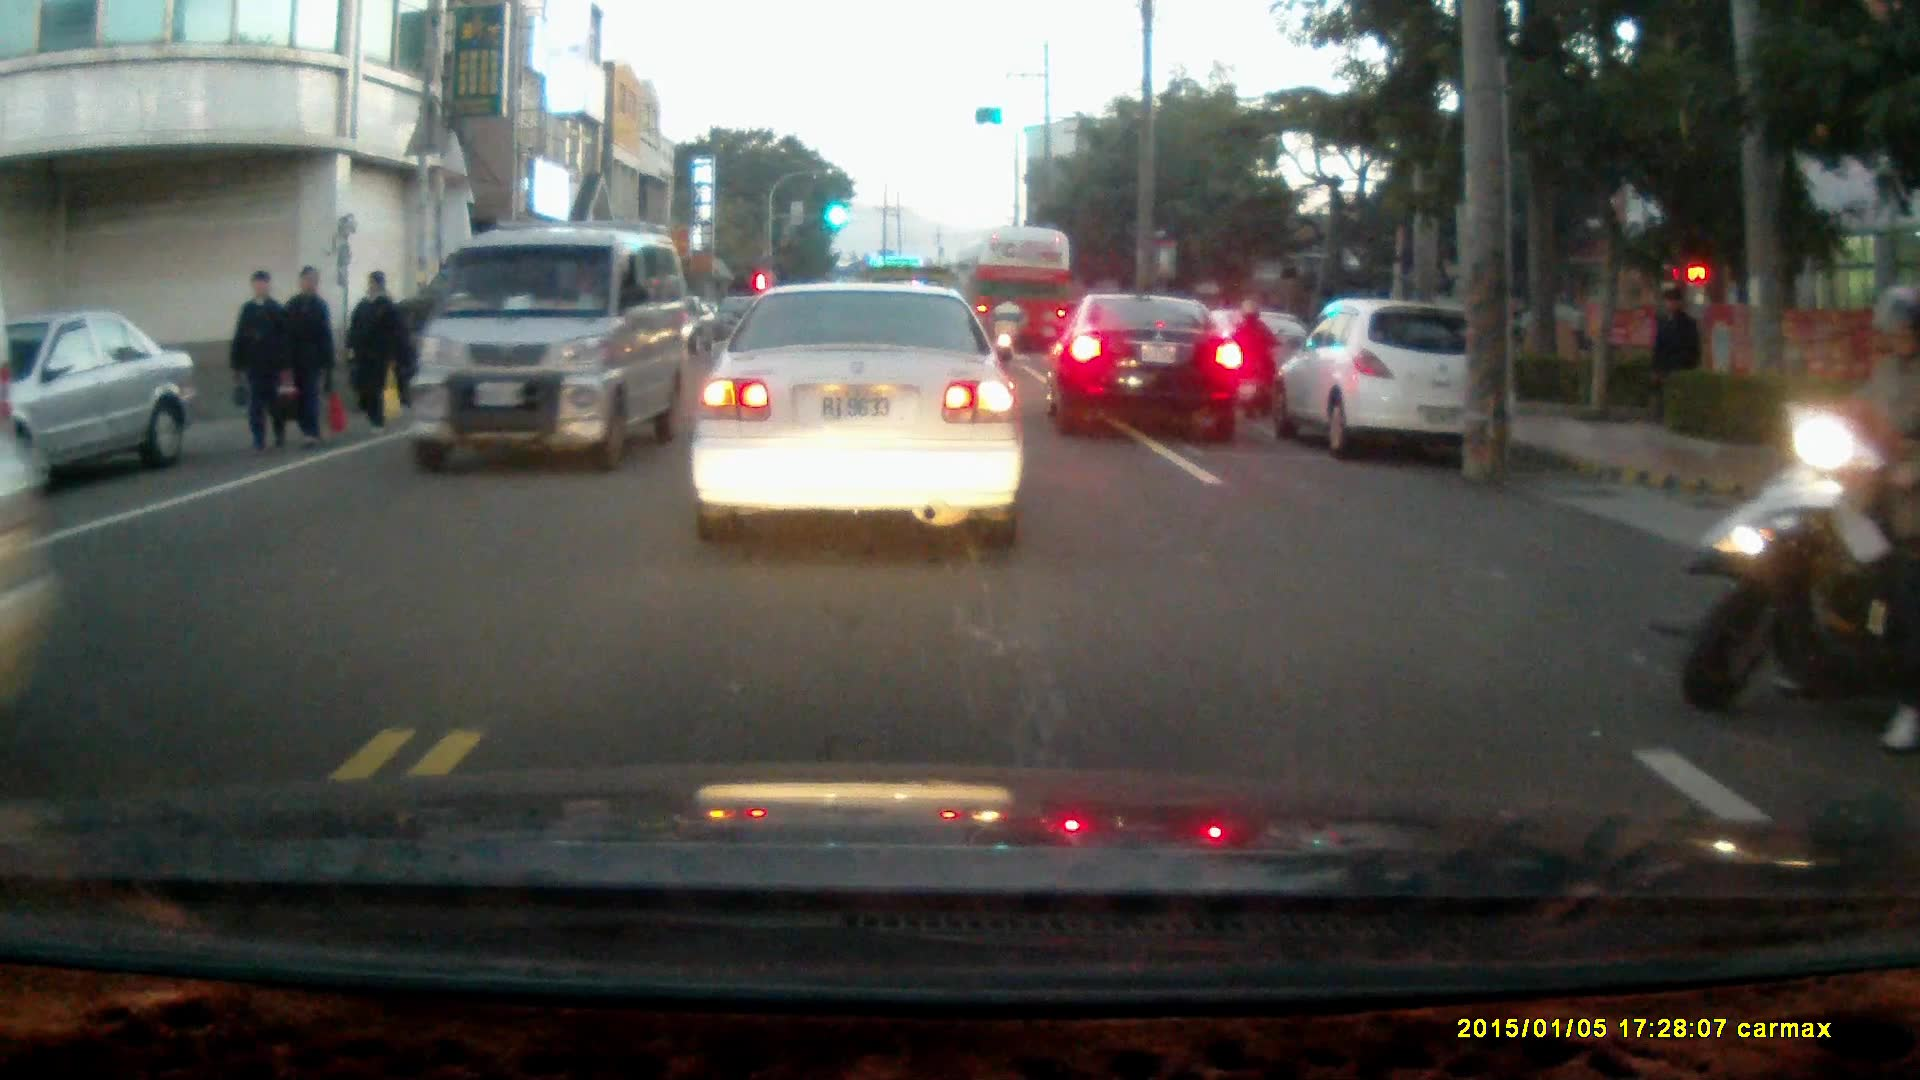pedestrian: (265, 262, 331, 459), (225, 266, 291, 458), (342, 267, 404, 434), (1651, 286, 1706, 430)
rider: (1687, 284, 1919, 736), (1230, 297, 1283, 420), (989, 292, 1028, 372)
vehicle: (690, 281, 1029, 550), (410, 220, 691, 476), (1268, 296, 1517, 468), (1, 309, 175, 501), (1048, 296, 1250, 445), (971, 224, 1074, 366)
